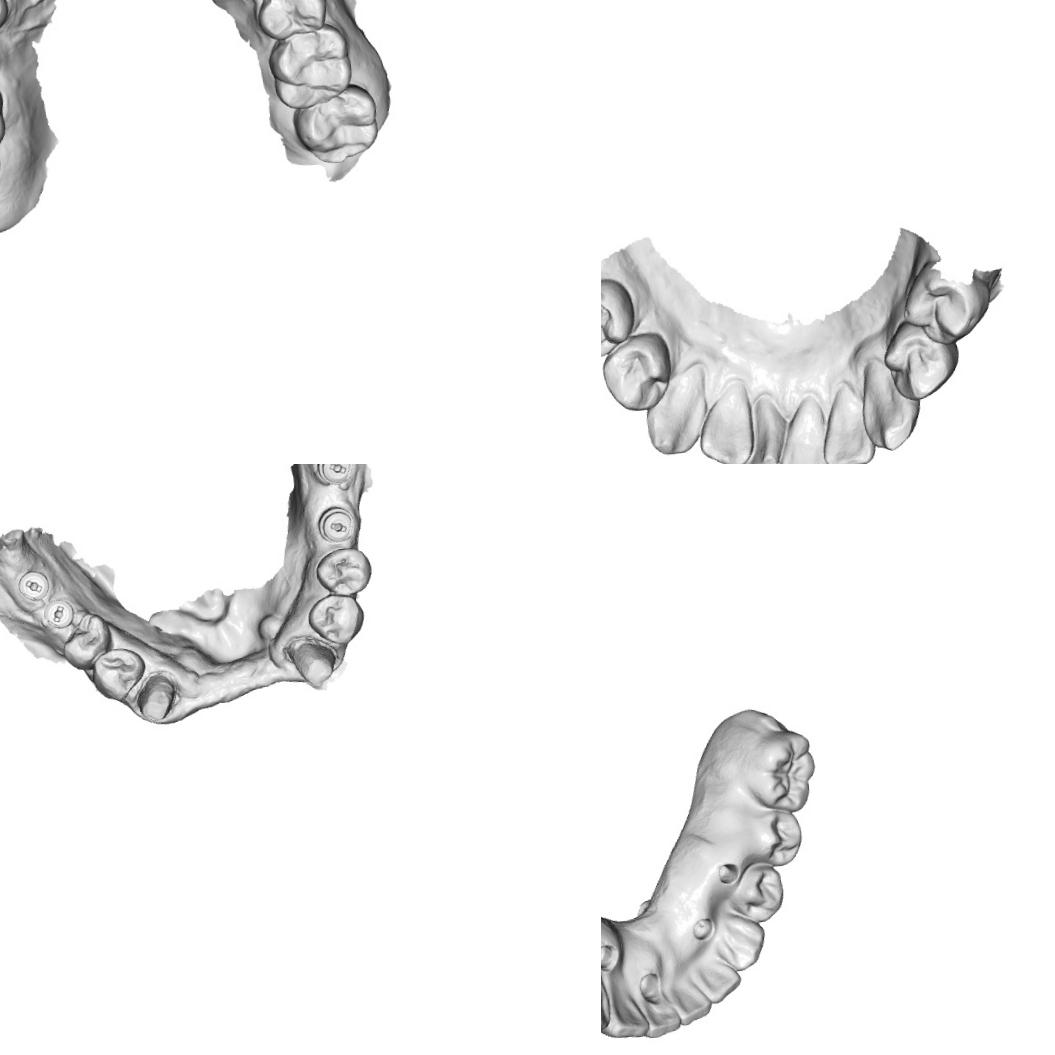canine: (640, 370, 712, 459), (856, 359, 922, 452), (712, 909, 766, 973)
crown: (130, 670, 180, 728), (288, 636, 338, 693)
implant_minus: (312, 502, 358, 548), (14, 566, 52, 602), (40, 596, 75, 630), (312, 464, 358, 487)
incisor: (815, 386, 876, 464), (694, 388, 752, 464), (730, 393, 785, 464), (773, 404, 831, 464), (601, 977, 649, 1044), (668, 978, 714, 1027), (696, 955, 742, 1003), (640, 988, 681, 1040)
molar: (265, 20, 354, 111), (290, 81, 382, 166), (734, 724, 820, 814)
premolar: (900, 264, 990, 348), (878, 317, 960, 403), (601, 332, 674, 413), (740, 804, 807, 872), (725, 859, 786, 924), (59, 608, 116, 672), (310, 544, 376, 599), (304, 590, 366, 648), (88, 644, 148, 702), (252, 0, 329, 42), (601, 277, 639, 359)
